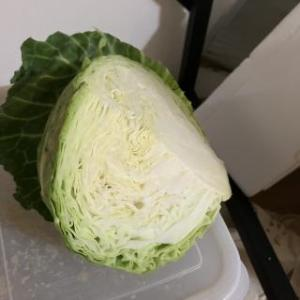cabbage: (0, 28, 232, 276)
